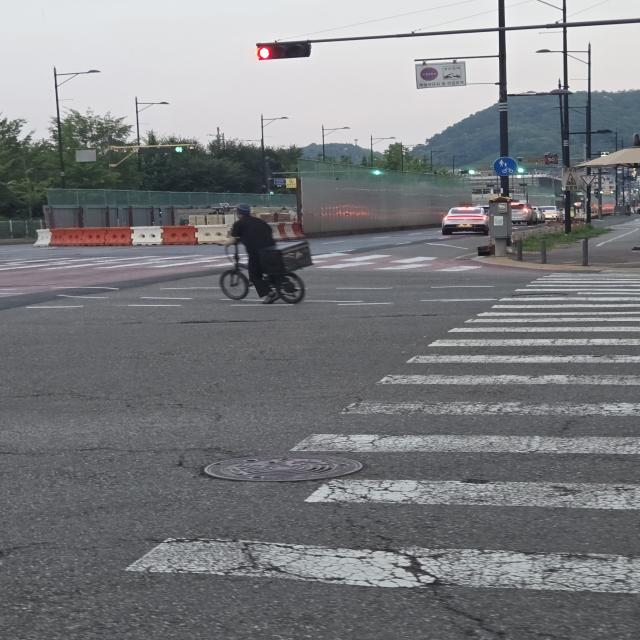car: (440, 200, 494, 242)
motorcycle: (208, 194, 314, 328)
